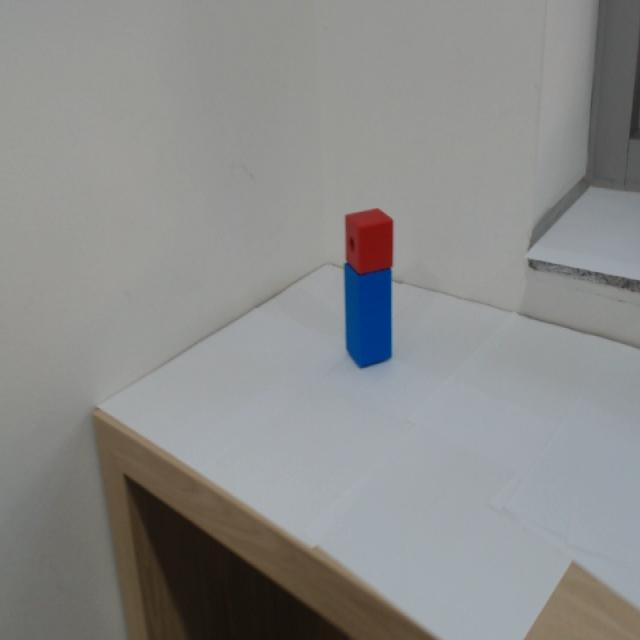cube: (331, 191, 397, 274)
